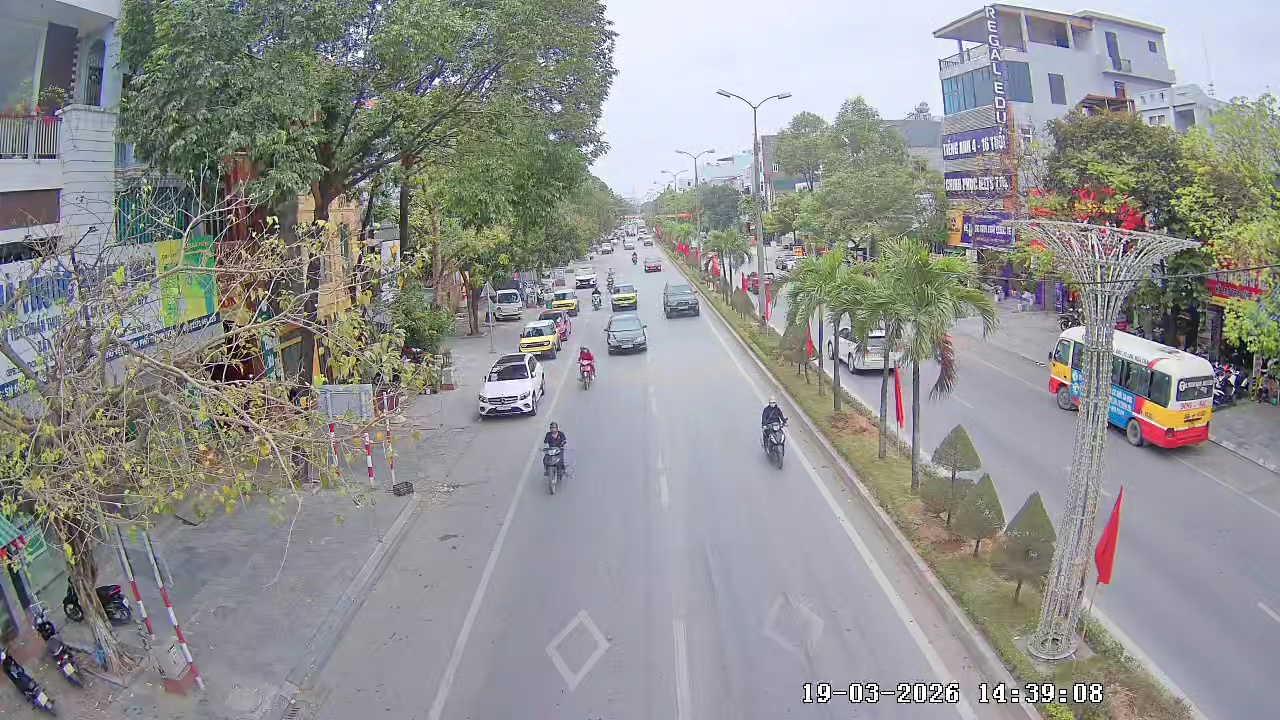bus: (1048, 321, 1215, 452)
car: (476, 352, 547, 419), (518, 315, 564, 360), (604, 312, 650, 355), (660, 278, 702, 320), (609, 282, 640, 310)
motorbike: (537, 419, 572, 497), (757, 397, 792, 470), (575, 345, 596, 391)
